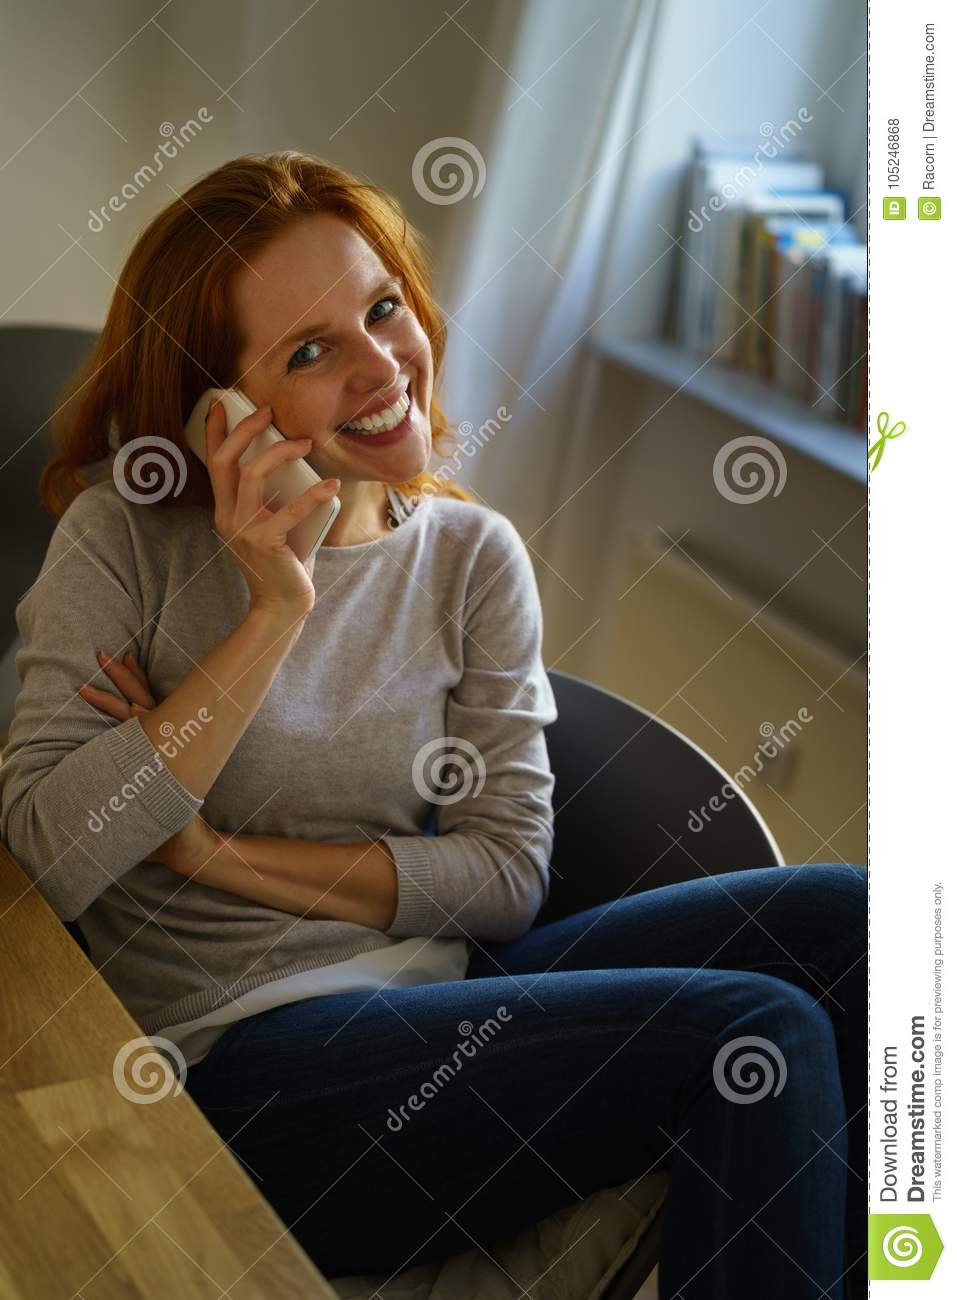phone: (189, 380, 348, 576)
talk: (187, 272, 438, 636)
